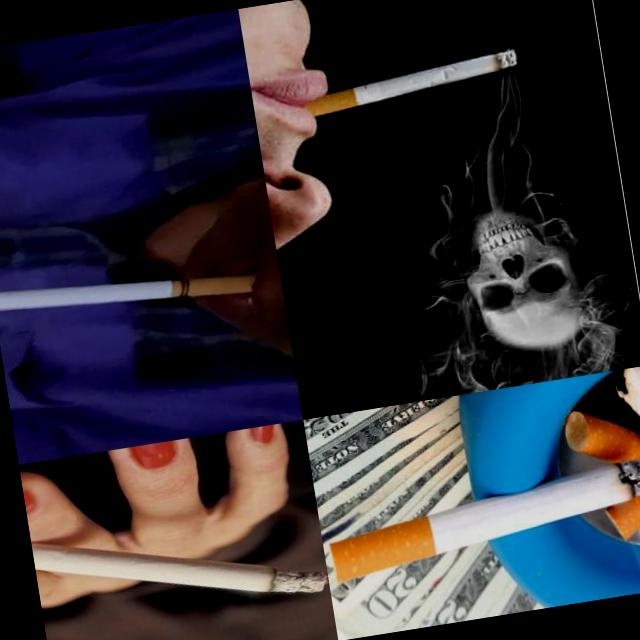smoke: (309, 398, 640, 588), (24, 451, 330, 635), (0, 249, 258, 332), (301, 48, 520, 118)
